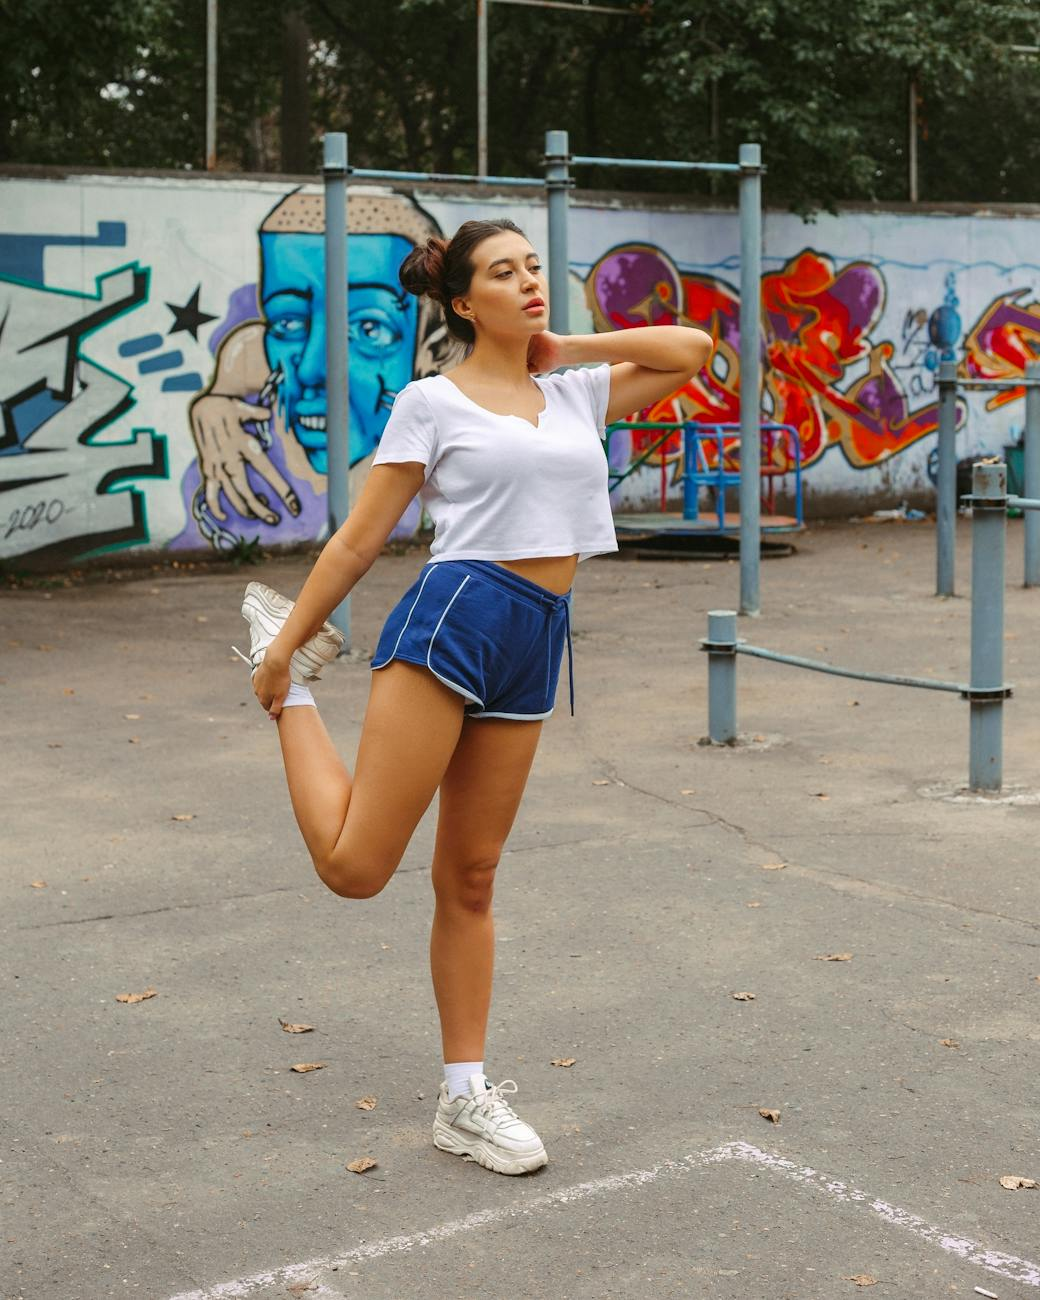crop_top: (369, 359, 635, 561)
shorts: (364, 553, 590, 726)
